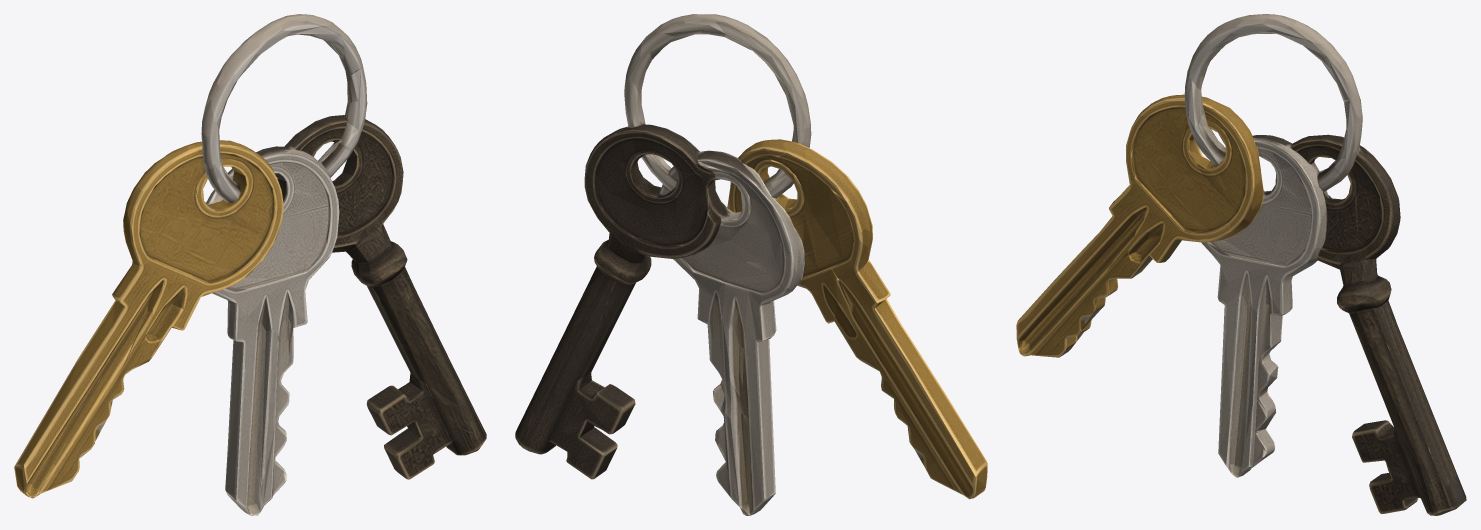
Rendered from keyring.glb.
The picture shows the model from 3 angles, left to right: view 1: azimuth 30°, elevation 25°; view 2: azimuth 150°, elevation 25°; view 3: azimuth 330°, elevation 25°; orthographic projection. The views are drawn at different scales.
Parts seen in each view (by area): view 1: output_unwrapped; view 2: output_unwrapped; view 3: output_unwrapped.
Boxes of the visible parts, x1=… form: output_unwrapped: x1=14, y1=14, x2=486, y2=515; output_unwrapped: x1=515, y1=14, x2=987, y2=515; output_unwrapped: x1=1016, y1=14, x2=1466, y2=515.
Size of the model in its own units: 1.89 by 1.9 by 0.1937.
1 material, 1 textured.
